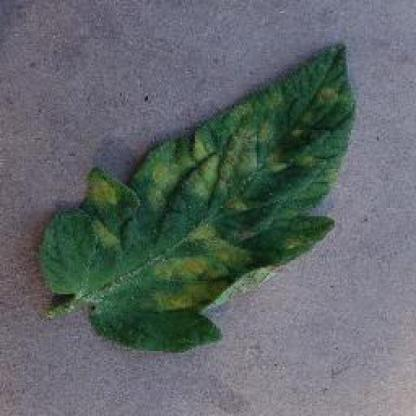Tomato_Leaf_Mold: (40, 44, 350, 351)
